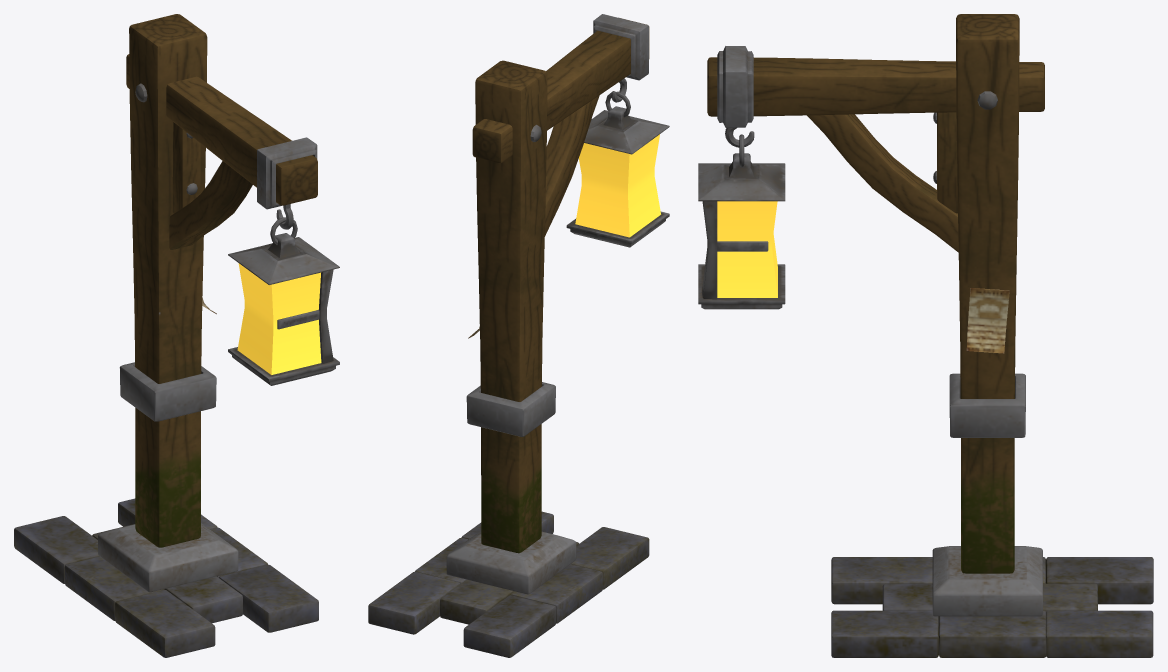
Rendered from uploads_files_2867957_Lamp+post.fbx.
The picture shows the model from 3 angles, left to right: view 1: azimuth 30°, elevation 25°; view 2: azimuth 150°, elevation 25°; view 3: azimuth 270°, elevation 25°; orthographic projection. The views are drawn at different scales.
Visible parts, largest first — view 1: Lamp post; view 2: Lamp post; view 3: Lamp post.
Boxes of the visible parts, x1,y1,x2,y2 form: Lamp post: (14, 14, 339, 657); Lamp post: (368, 14, 669, 657); Lamp post: (698, 14, 1153, 657).
Size of the model in its own units: 58.24 by 200 by 139.
